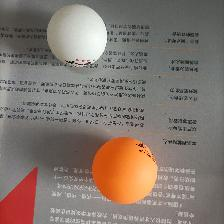WhiteBall: (46, 3, 107, 67)
YellowBall: (90, 136, 158, 203)
